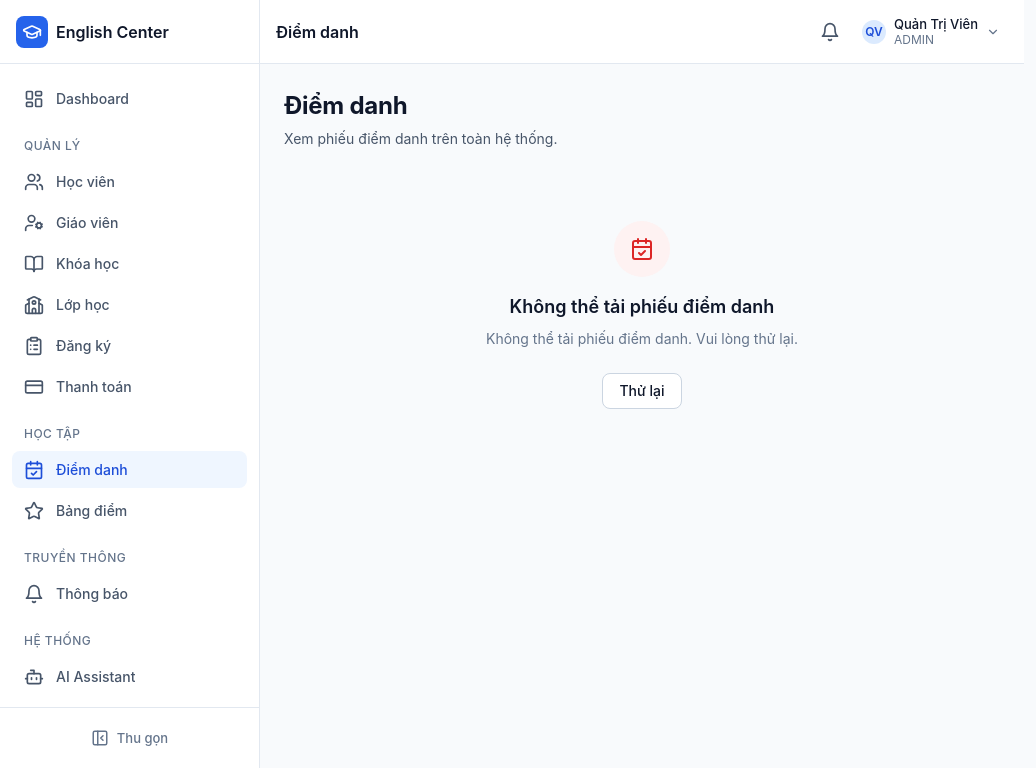
Test: AdminAttendancePage › shows error state and refetches when retrying
This screenshot has width=1036, height=768.
Expected: the heading "Không thể tải phiếu điểm danh" is shown, left=510, top=293, right=774, bottom=320
Click the button "Thử lại": [642, 391] box left=602, top=373, right=682, bottom=409
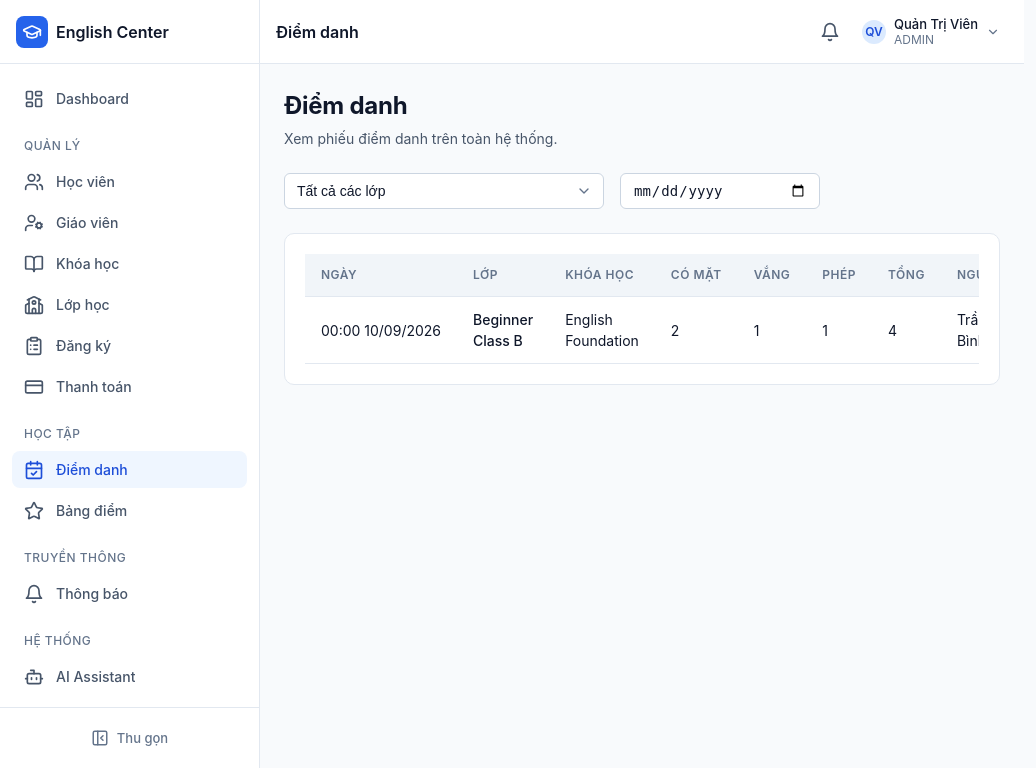
Result: the text "Beginner Class B" is shown at left=473, top=311, right=533, bottom=349
